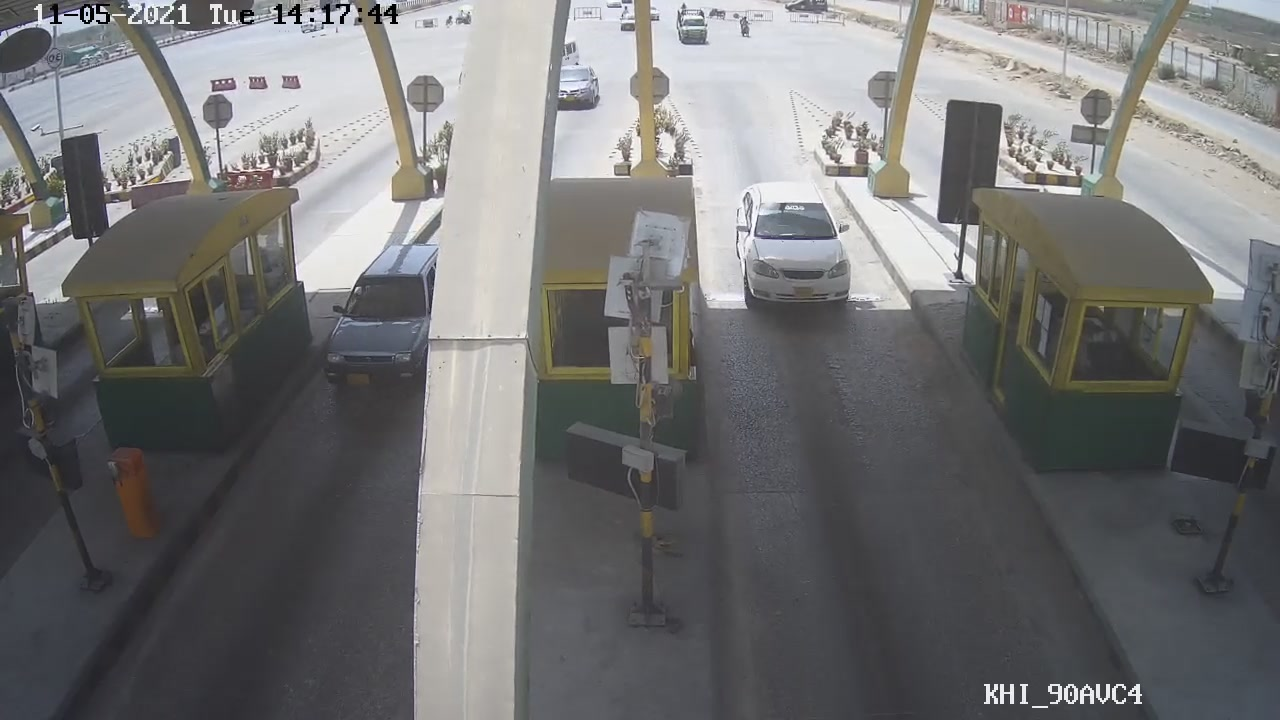F1: (719, 176, 862, 327)
